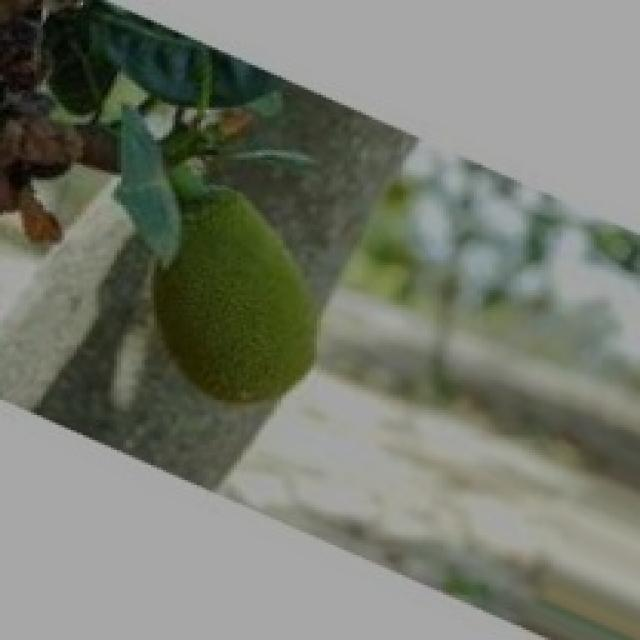Fruit: (89, 140, 369, 445)
